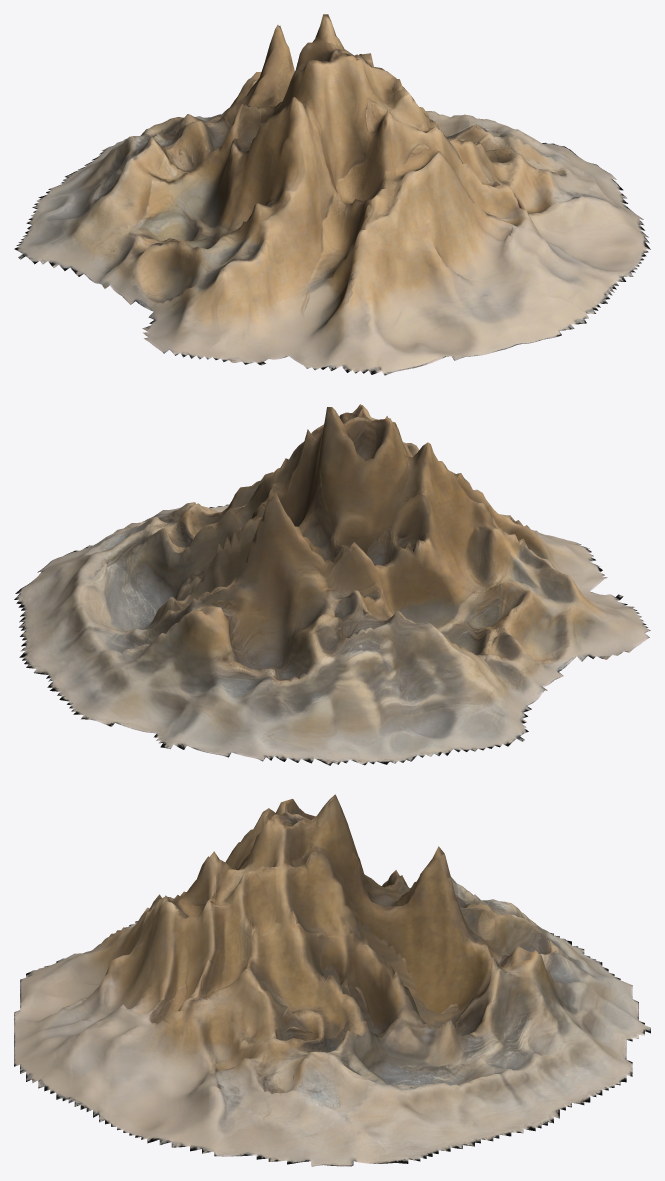
File: Mountain Painted Color v24.glb
3 views of the same model, one above another, from view 1: azimuth 30°, elevation 25°; view 2: azimuth 150°, elevation 25°; view 3: azimuth 270°, elevation 25° (orthographic). The views are drawn at different scales.
Size of the model in its own units: 1.96 by 0.807 by 2.
1 material, 1 textured.
